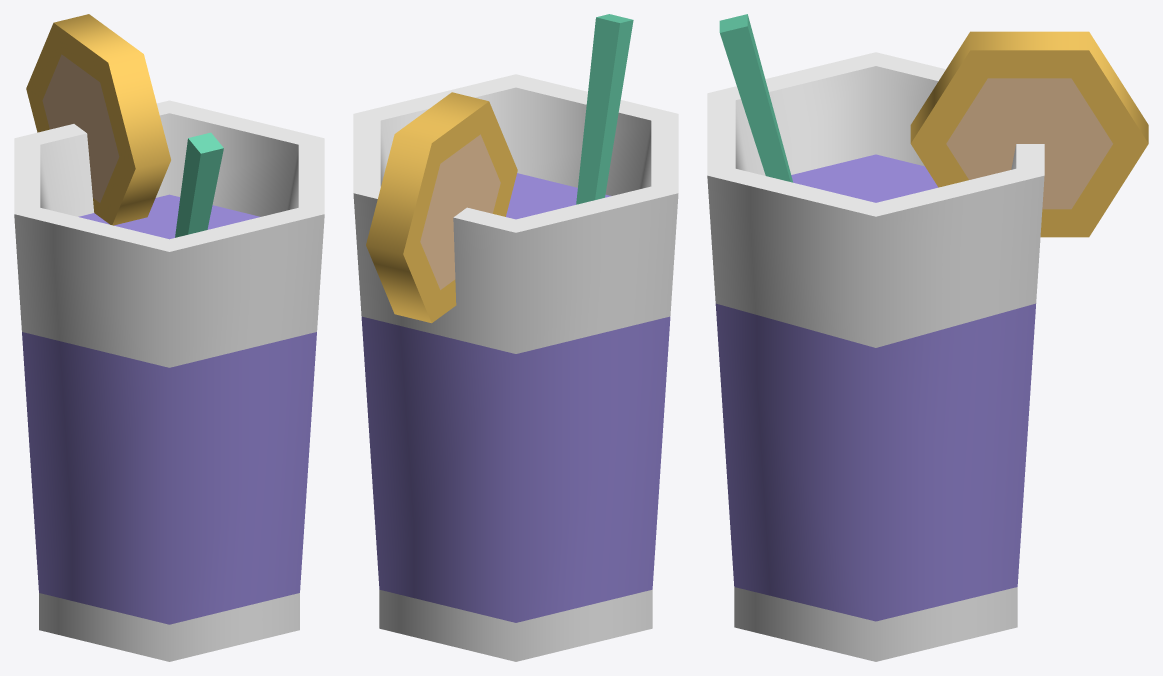
File: Soda Glass.glb
3 views of the same model, side by side, from view 1: azimuth 30°, elevation 25°; view 2: azimuth 150°, elevation 25°; view 3: azimuth 270°, elevation 25° (orthographic). The views are drawn at different scales.
Visible parts, largest first — view 1: Soda Glass; view 2: Soda Glass; view 3: Soda Glass.
Boxes of the visible parts, x1=… form: Soda Glass: x1=14, y1=14, x2=324, y2=661; Soda Glass: x1=353, y1=14, x2=678, y2=661; Soda Glass: x1=707, y1=14, x2=1148, y2=661.
Bounding box in the file's own units: 0.1164 × 0.1838 × 0.1319.
